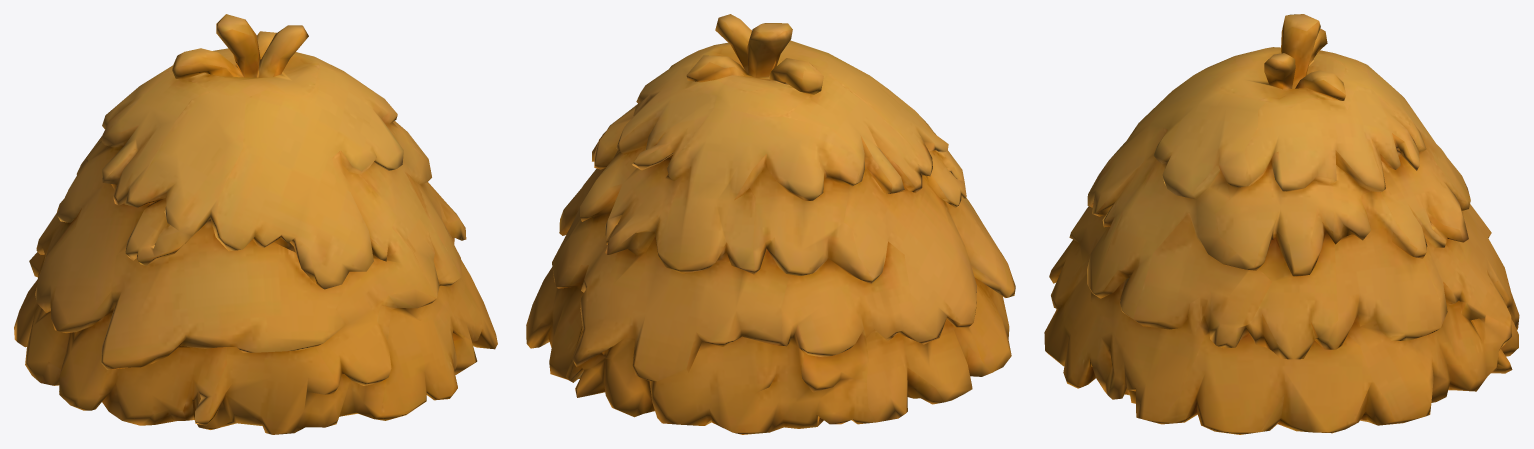
The model's file is hay_pile.glb.
The picture shows the model from 3 angles, left to right: view 1: azimuth 30°, elevation 25°; view 2: azimuth 150°, elevation 25°; view 3: azimuth 270°, elevation 25°; orthographic projection.
Parts seen in each view (by area): view 1: textured_mesh.obj; view 2: textured_mesh.obj; view 3: textured_mesh.obj.
Boxes of the visible parts, x1=… form: textured_mesh.obj: x1=14, y1=14, x2=497, y2=434; textured_mesh.obj: x1=526, y1=14, x2=1015, y2=434; textured_mesh.obj: x1=1044, y1=14, x2=1519, y2=434.
Size of what is drawn, in the model's own units: 1.68 by 1.24 by 1.69.
1 material, 1 textured.
